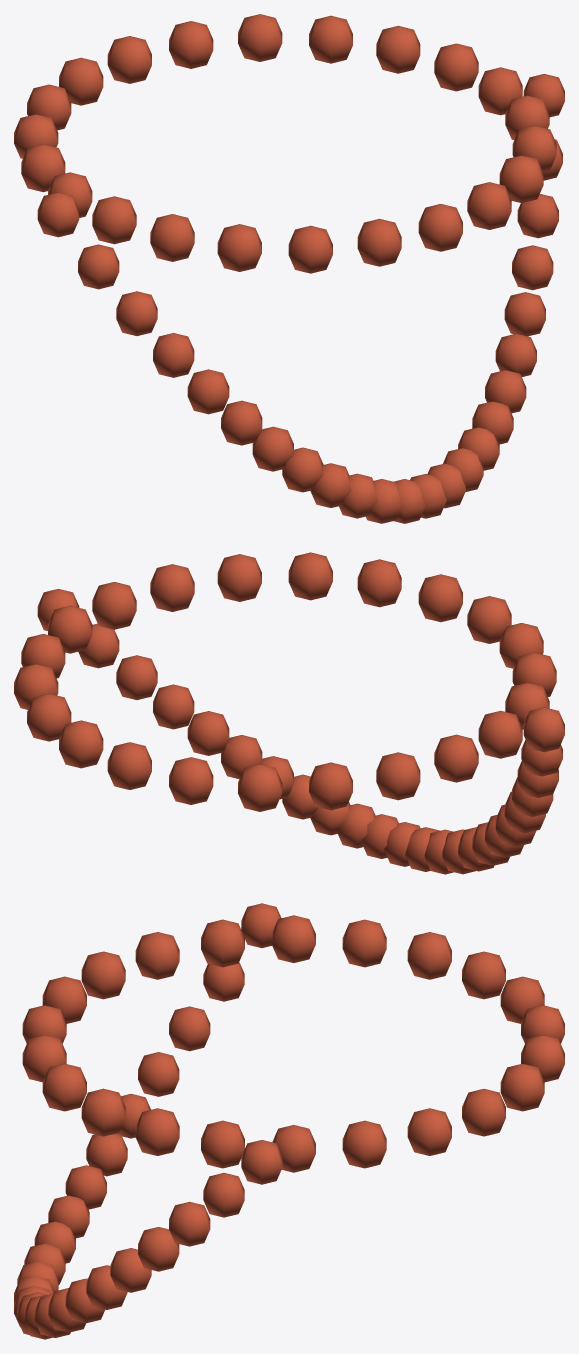
Rendered from coral_necklace_f.glb.
3 renders of one model, top to bottom at view 1: azimuth 30°, elevation 25°; view 2: azimuth 150°, elevation 25°; view 3: azimuth 270°, elevation 25°, orthographic.
Parts seen in each view (by area): view 1: hair; view 2: hair; view 3: hair.
Part boxes in pixels (x1,y1,x2,y2): hair: [14, 14, 564, 523]; hair: [14, 552, 564, 874]; hair: [14, 903, 564, 1339].
Size of the model in its own units: 0.1907 by 0.1053 by 0.173.
